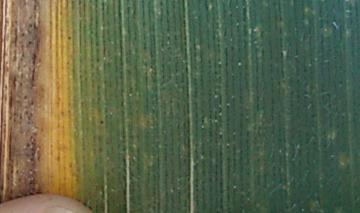tarspot: (66, 36, 73, 41), (99, 120, 104, 126)
